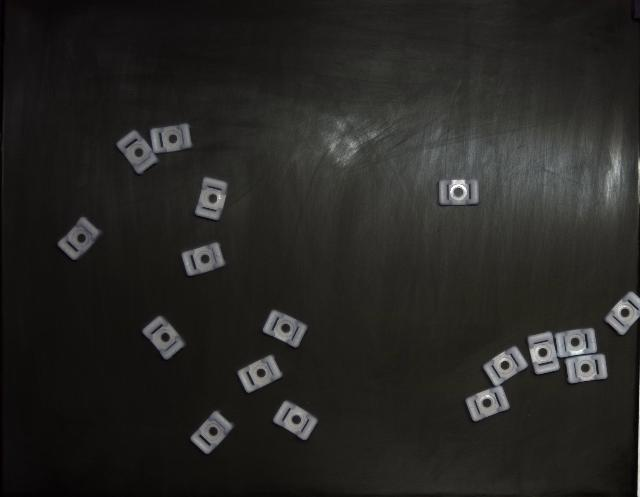first_side: (116, 124, 192, 174), (142, 316, 186, 360), (190, 411, 234, 455), (58, 218, 102, 260), (482, 346, 528, 386), (272, 401, 318, 440), (262, 310, 308, 348), (238, 355, 282, 394), (465, 386, 510, 422), (605, 292, 640, 335), (181, 242, 225, 276), (195, 178, 228, 221), (528, 331, 560, 375), (565, 354, 608, 384), (150, 124, 192, 154), (555, 329, 598, 358), (439, 179, 479, 206)
